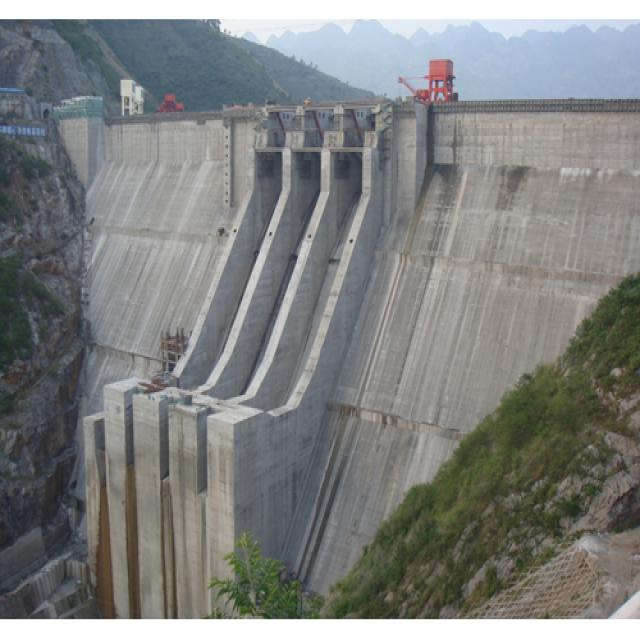Concrete: (81, 102, 640, 621)
